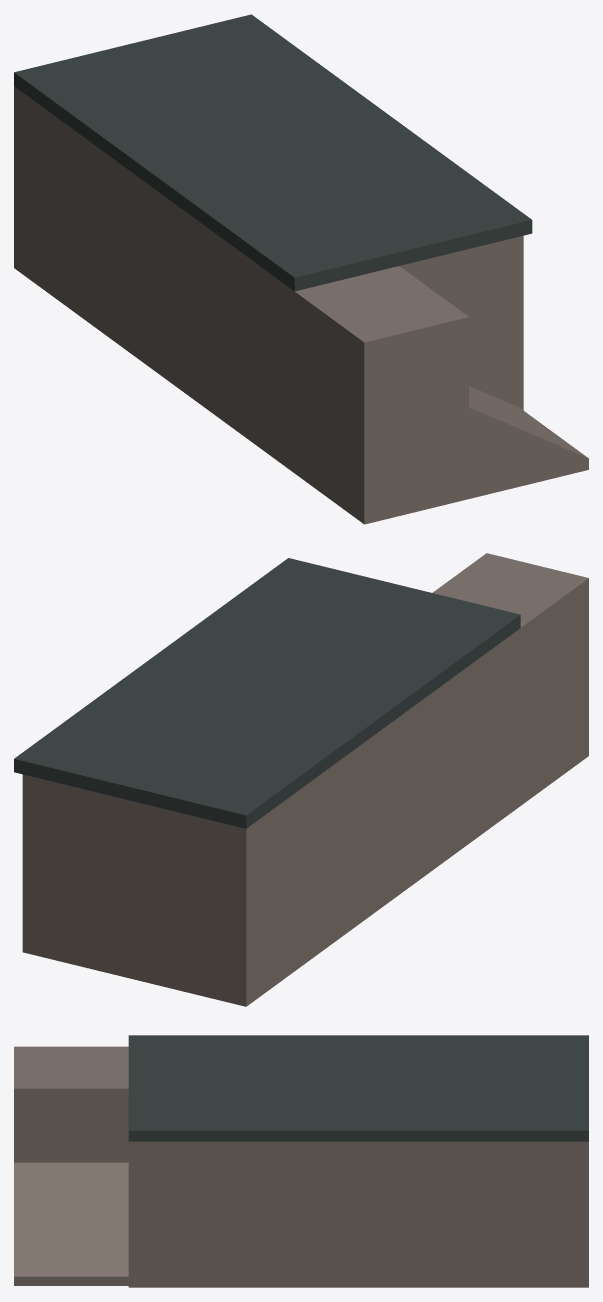
Rendered from SM_counter_01.fbx.
3 renders of one model, top to bottom at view 1: azimuth 30°, elevation 25°; view 2: azimuth 150°, elevation 25°; view 3: azimuth 270°, elevation 25°, orthographic. The views are drawn at different scales.
Parts seen in each view (by area): view 1: counter_01; view 2: counter_01; view 3: counter_01.
Part boxes in pixels (left/top/right/bottom): counter_01: left=14, top=14, right=588, bottom=524; counter_01: left=14, top=553, right=588, bottom=1006; counter_01: left=14, top=1035, right=588, bottom=1287.
Size of the model in its own units: 156 by 123 by 399.
